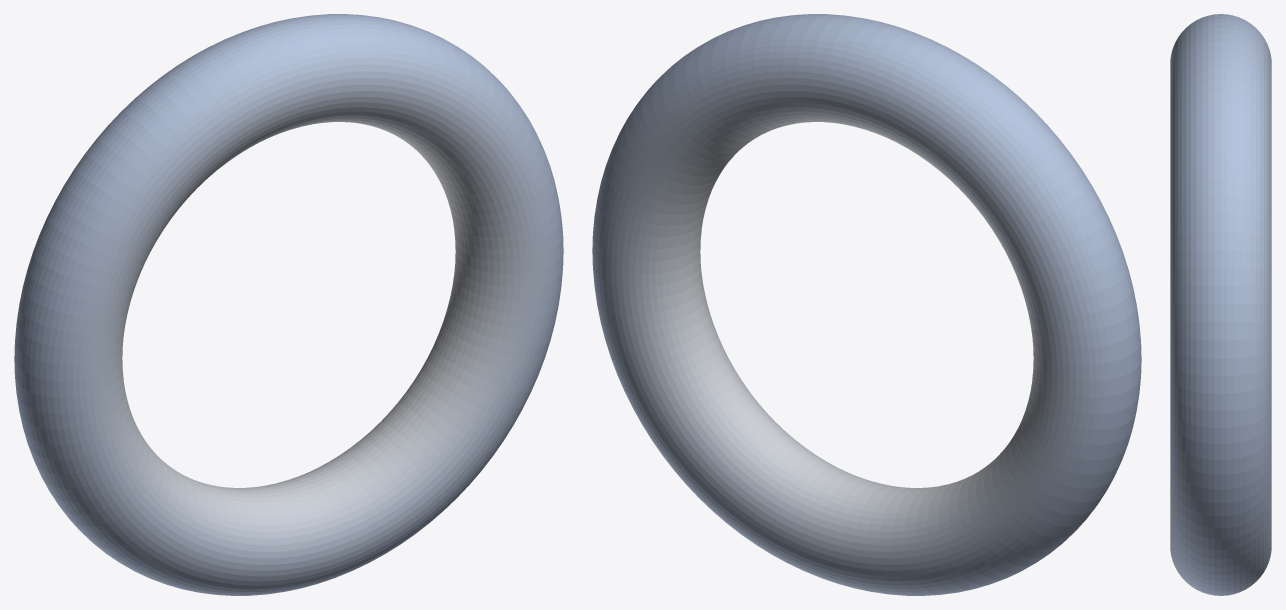
The picture shows the model from 3 angles, left to right: view 1: azimuth 30°, elevation 25°; view 2: azimuth 150°, elevation 25°; view 3: azimuth 270°, elevation 25°; orthographic projection. The views are drawn at different scales.
Parts seen in each view (by area): view 1: world; view 2: world; view 3: world.
Boxes of the visible parts, x1,y1,x2,y2 form: world: (14,14,563,595); world: (592,14,1141,595); world: (1170,14,1271,595).
Size of the model in its own units: 26.67 by 26.67 by 4.66.
